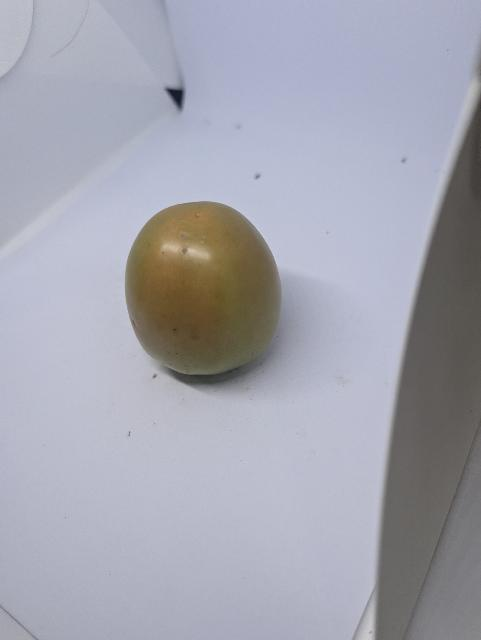turning: (106, 195, 297, 385)
